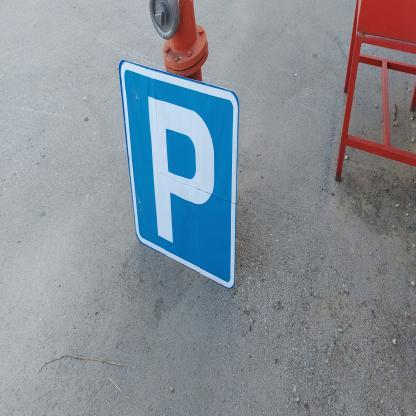parking: (116, 59, 238, 292)
